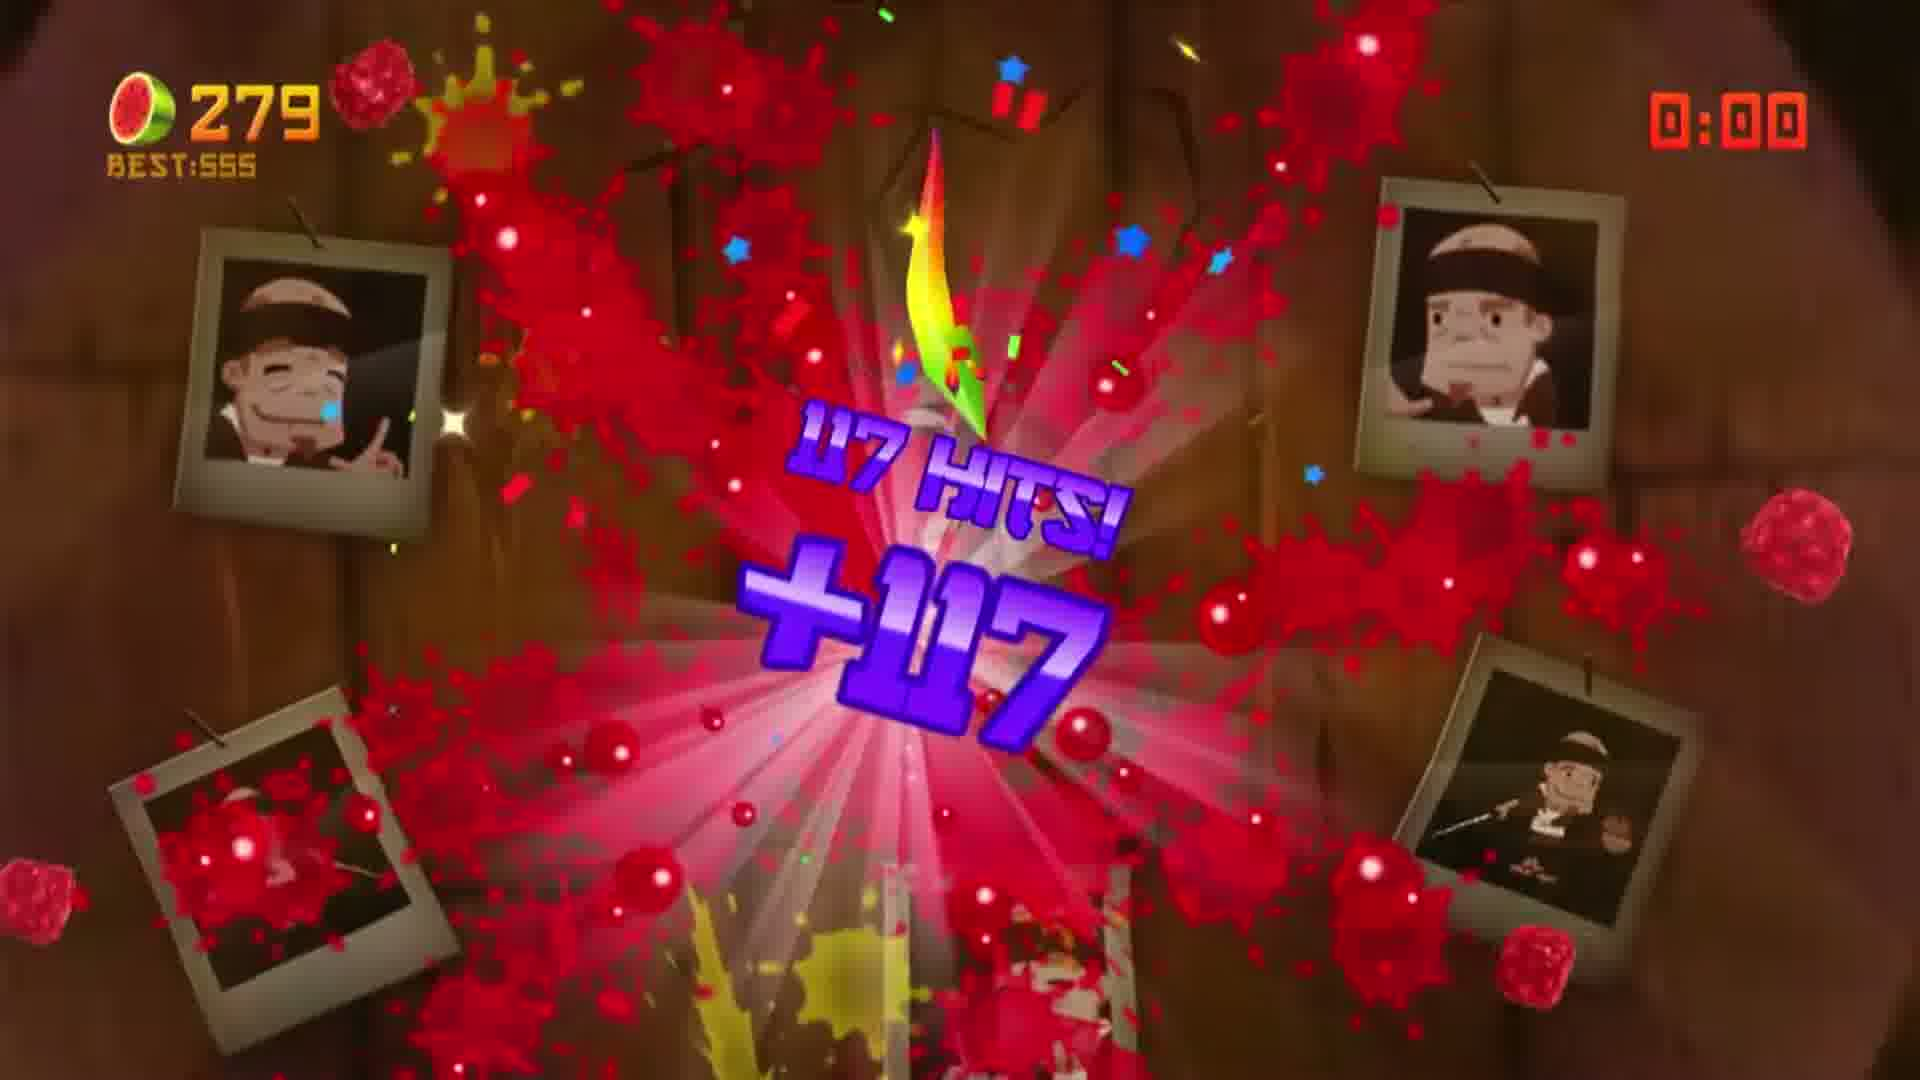blade_trail: (898, 100, 1001, 371)
fruit: (1718, 419, 1812, 517), (1557, 696, 1633, 782), (0, 599, 49, 687)
